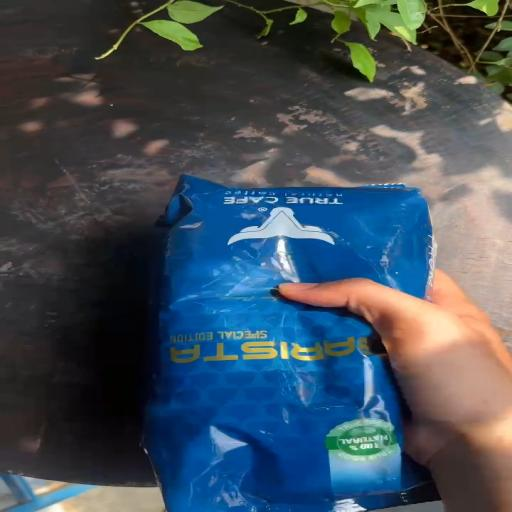cafe_hat: (144, 175, 434, 512)
